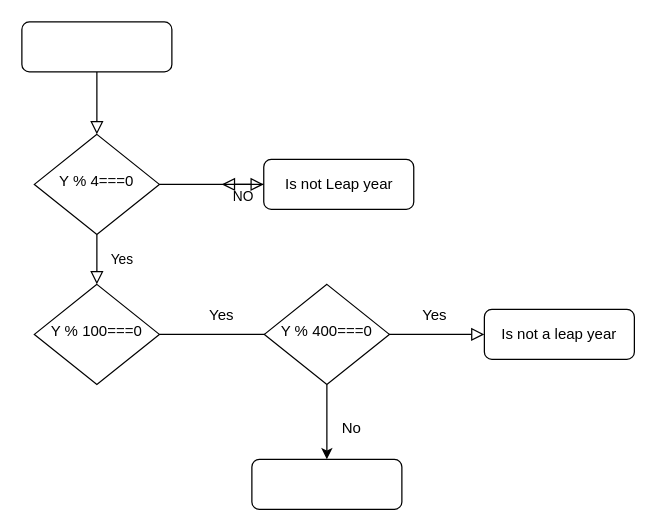
This 656x531 diagram has some shape labels left out. The centre of each missing label's shape, as x and y in pixels:
"Is a leap year" goes at pixel 326 483.
"Lamp doesn't work" goes at pixel 96 46.
